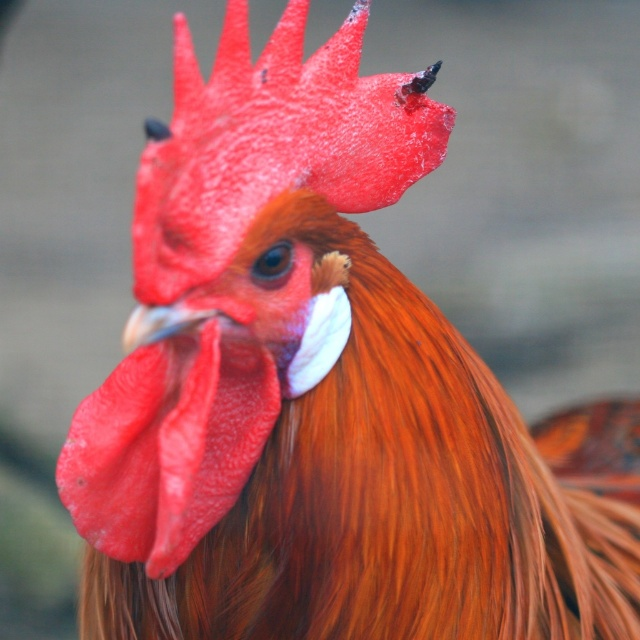Chicken: (56, 0, 640, 640)
